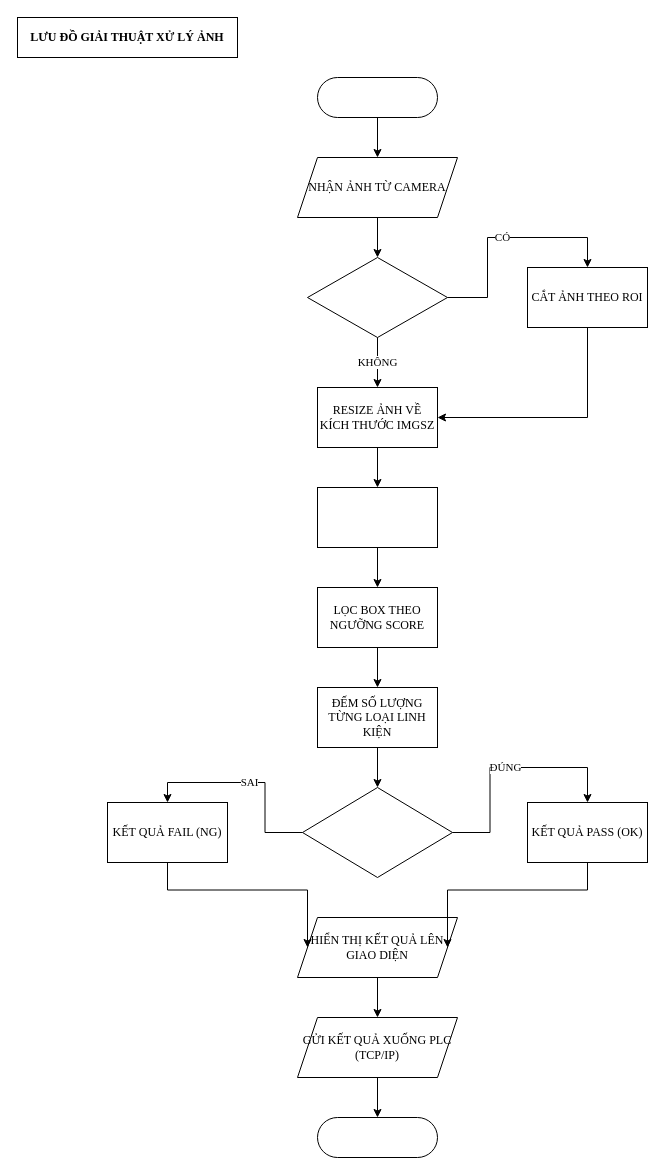
The diagram is 665 pixels wide and 1175 high, and some of its shapes have lost their labels. The centre of each missing label's shape, as x and y in pixels:
BẮT ĐẦU: the point at 377,97
CÓ CHỌN ROI?: the point at 377,297
KẾT THÚC: the point at 377,1137
SỐ LƯỢNG ĐÚNG YÊU CẦU?: the point at 377,832
YOLO PHÁT HIỆN LINH KIỆN (best.pt): the point at 377,517
